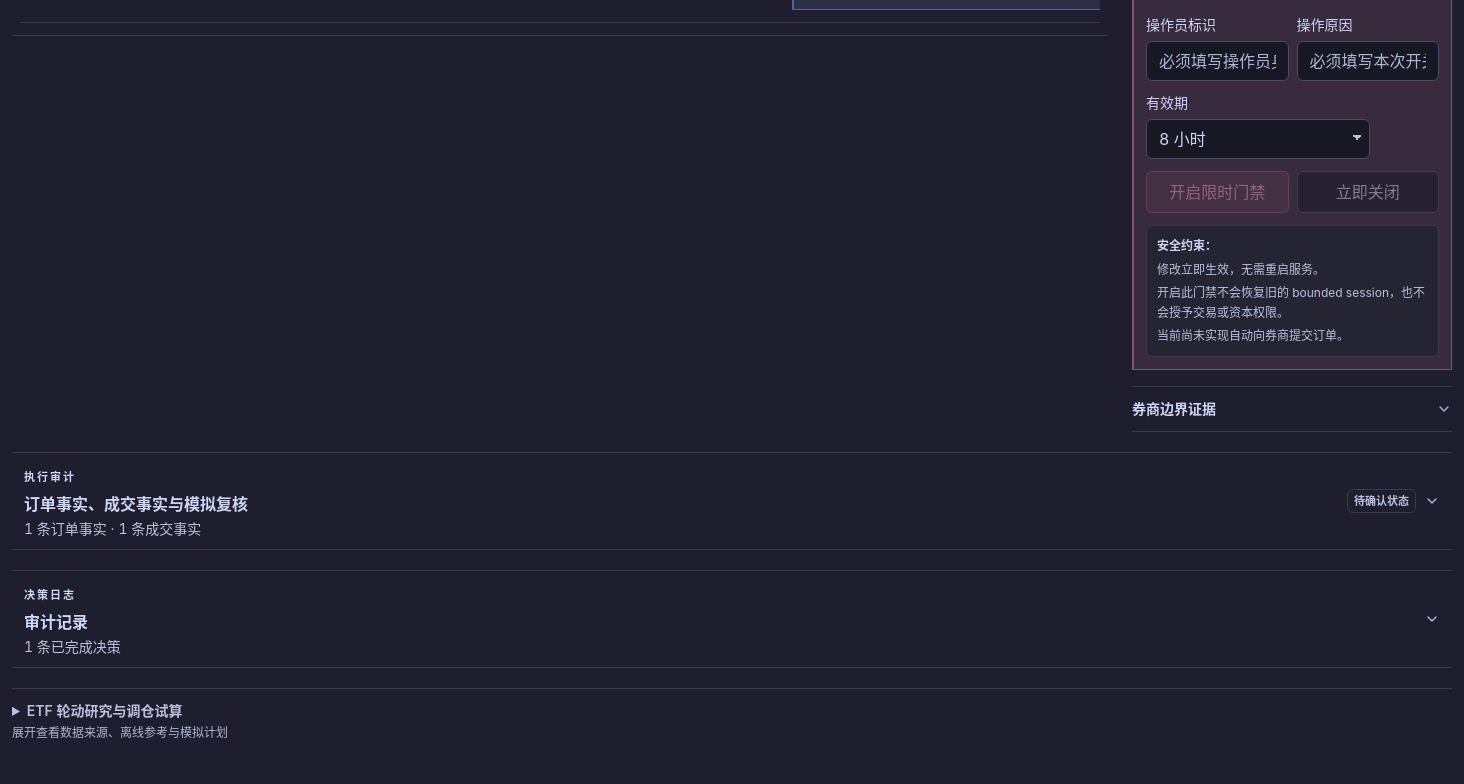
Test: uses consistent Chinese simulation-review wording in execution audit
The width and height of the screenshot is (1464, 784).
(page scrolled)
Expected: the text "执行审计" is shown, [24,472,76,482]
Expected: the text "订单事实、成交事实与模拟复核" is shown, [24,492,248,514]
Click the heading "执行审计 订单事实、成交事实与模拟复核 1 条订单事实 · 1 条成交事实 待确认状态". click: (50,476)
box: [12,452,1452,548]
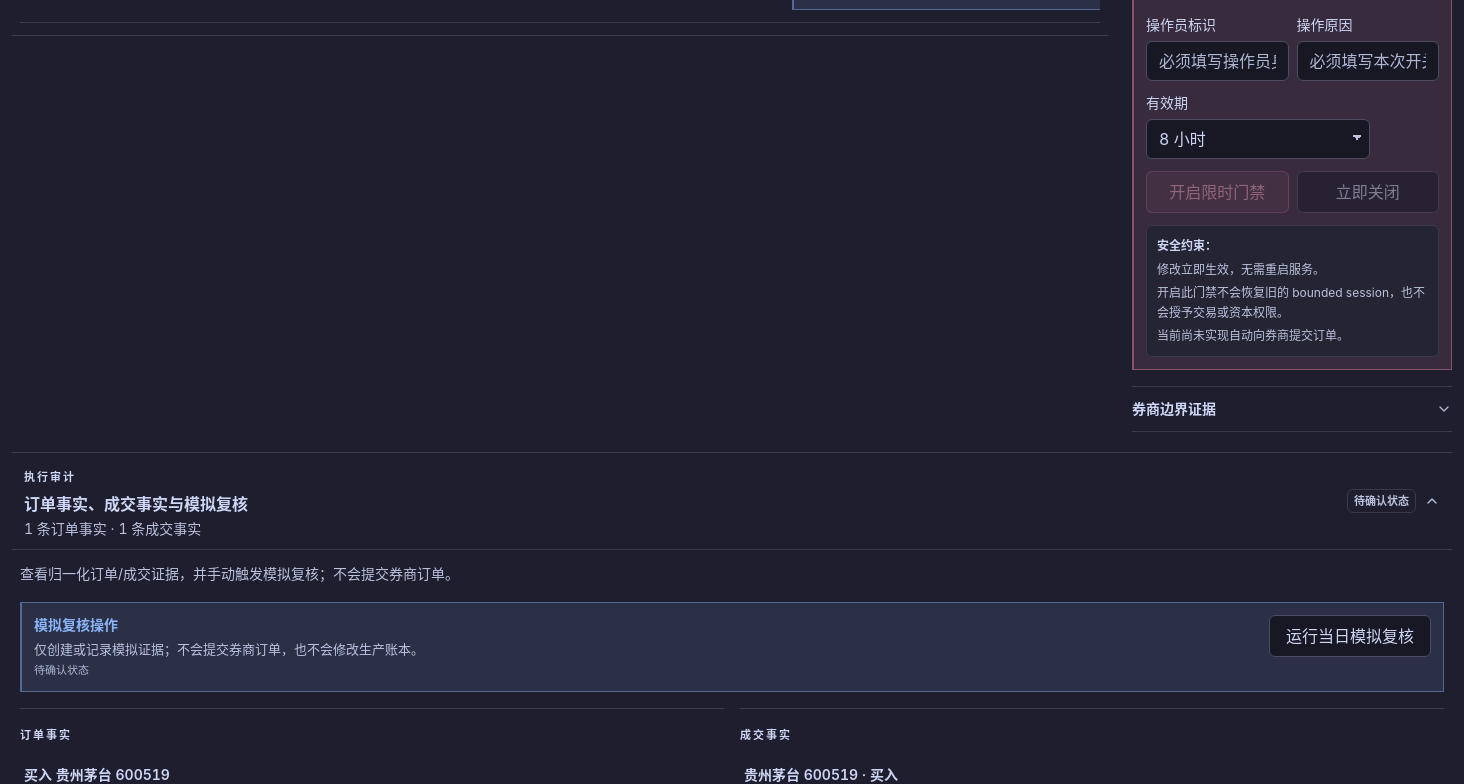
Click the button "运行当日模拟复核". click: (1350,636)
box: [1269,614,1431,656]
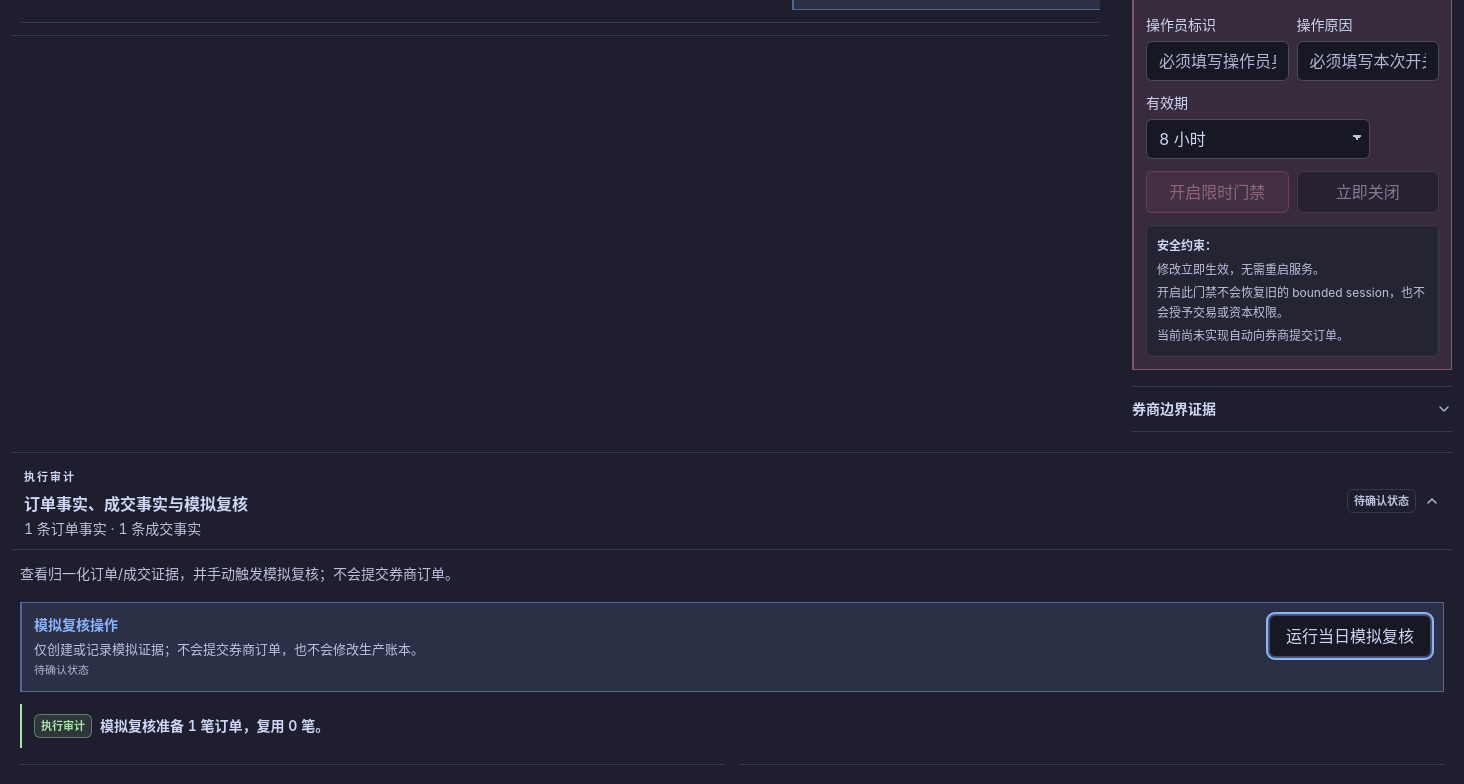
Result: the heading "模拟复核准备 1 笔订单，复用 0 笔。" is shown at [100,716,329,736]
